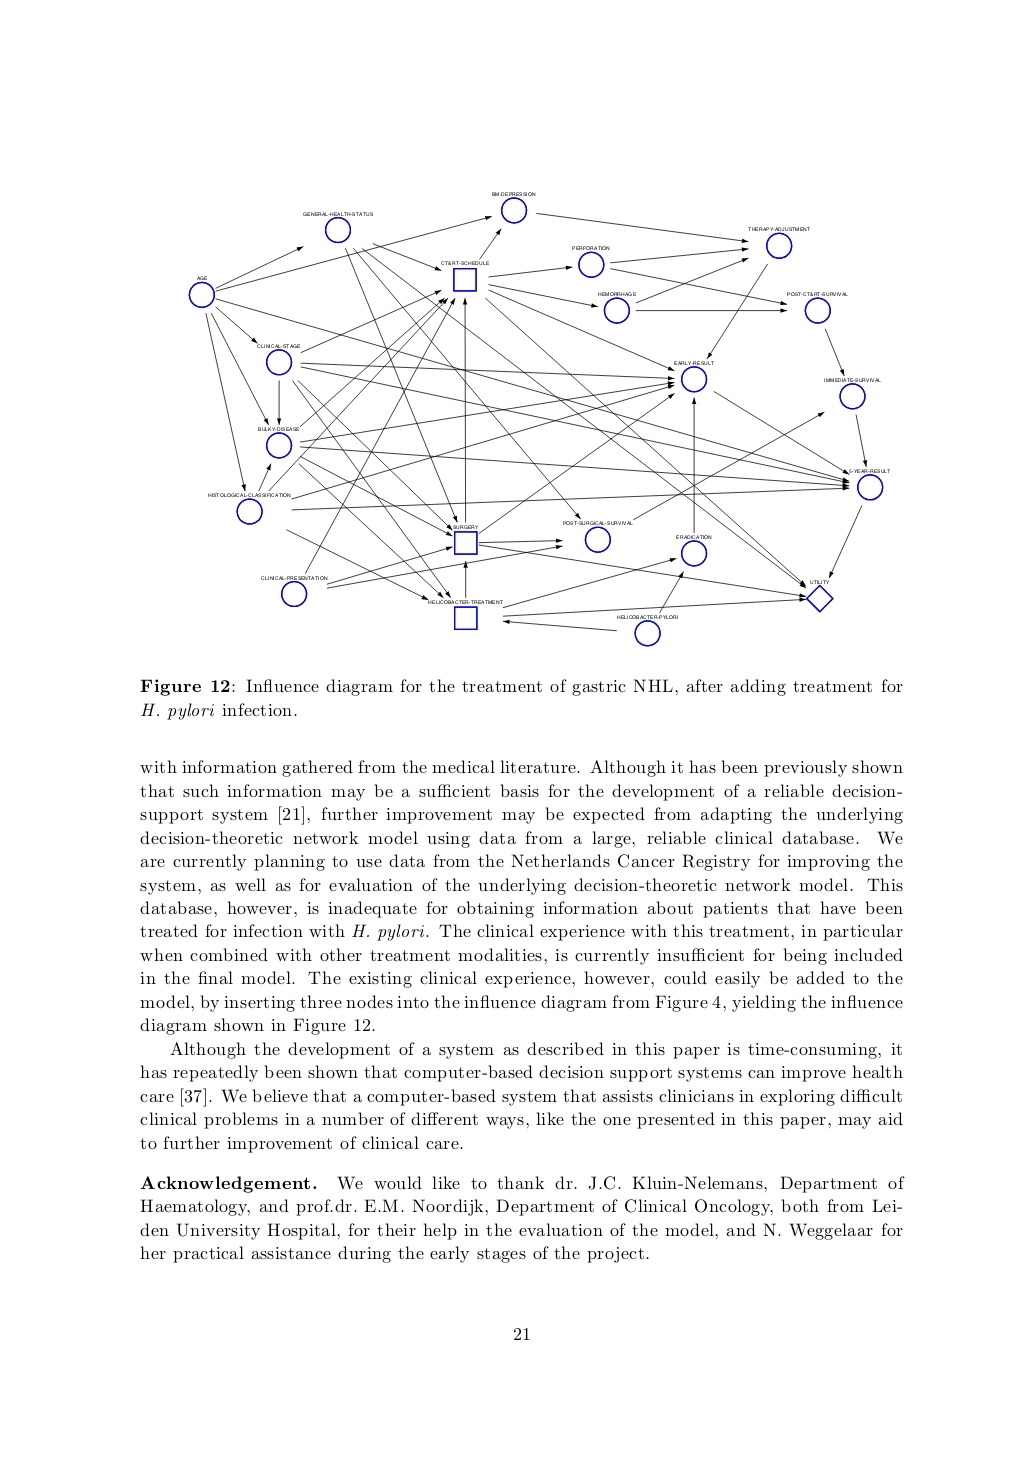figure: (189, 191, 889, 647)
